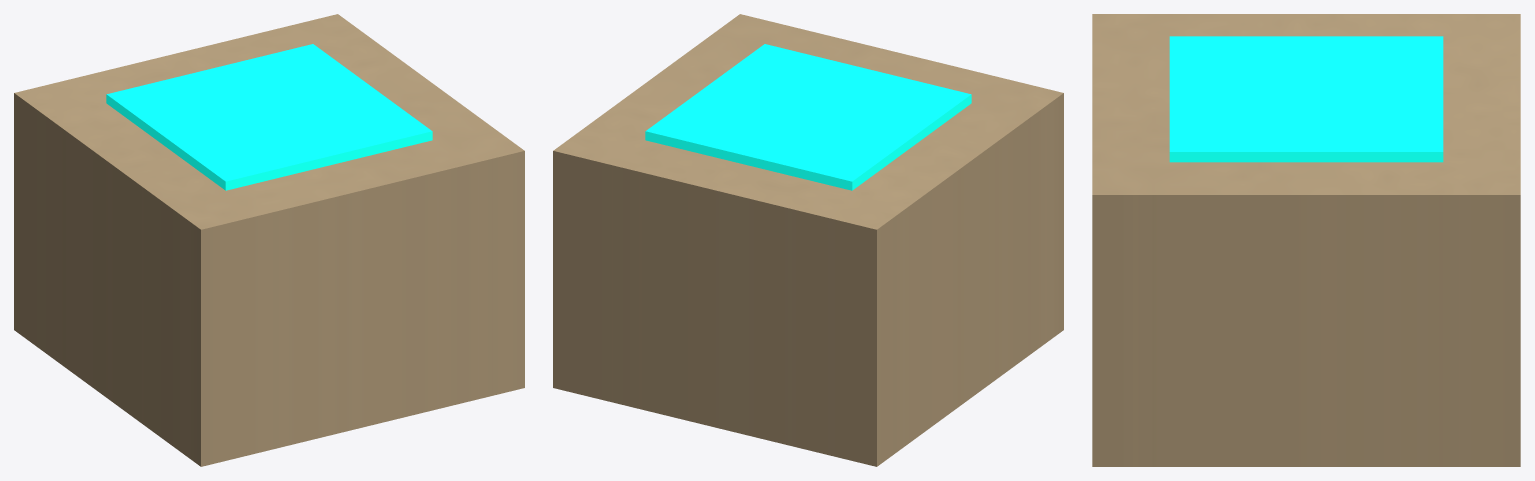
The model's file is corner_teal.glb.
3 views of the same model, side by side, from view 1: azimuth 30°, elevation 25°; view 2: azimuth 150°, elevation 25°; view 3: azimuth 270°, elevation 25° (orthographic). The views are drawn at different scales.
Parts seen in each view (by area): view 1: corner_base, corner_inlay; view 2: corner_base, corner_inlay; view 3: corner_base, corner_inlay.
Part boxes in pixels (<box>): corner_base: <box>14,14,524,466</box>; corner_inlay: <box>106,44,432,190</box>; corner_base: <box>553,14,1063,466</box>; corner_inlay: <box>645,44,971,190</box>; corner_base: <box>1092,14,1520,466</box>; corner_inlay: <box>1169,36,1443,162</box>.
Size of the model in its own units: 0.26 by 0.189 by 0.26.
Materials: 2 (1 with a texture image).
